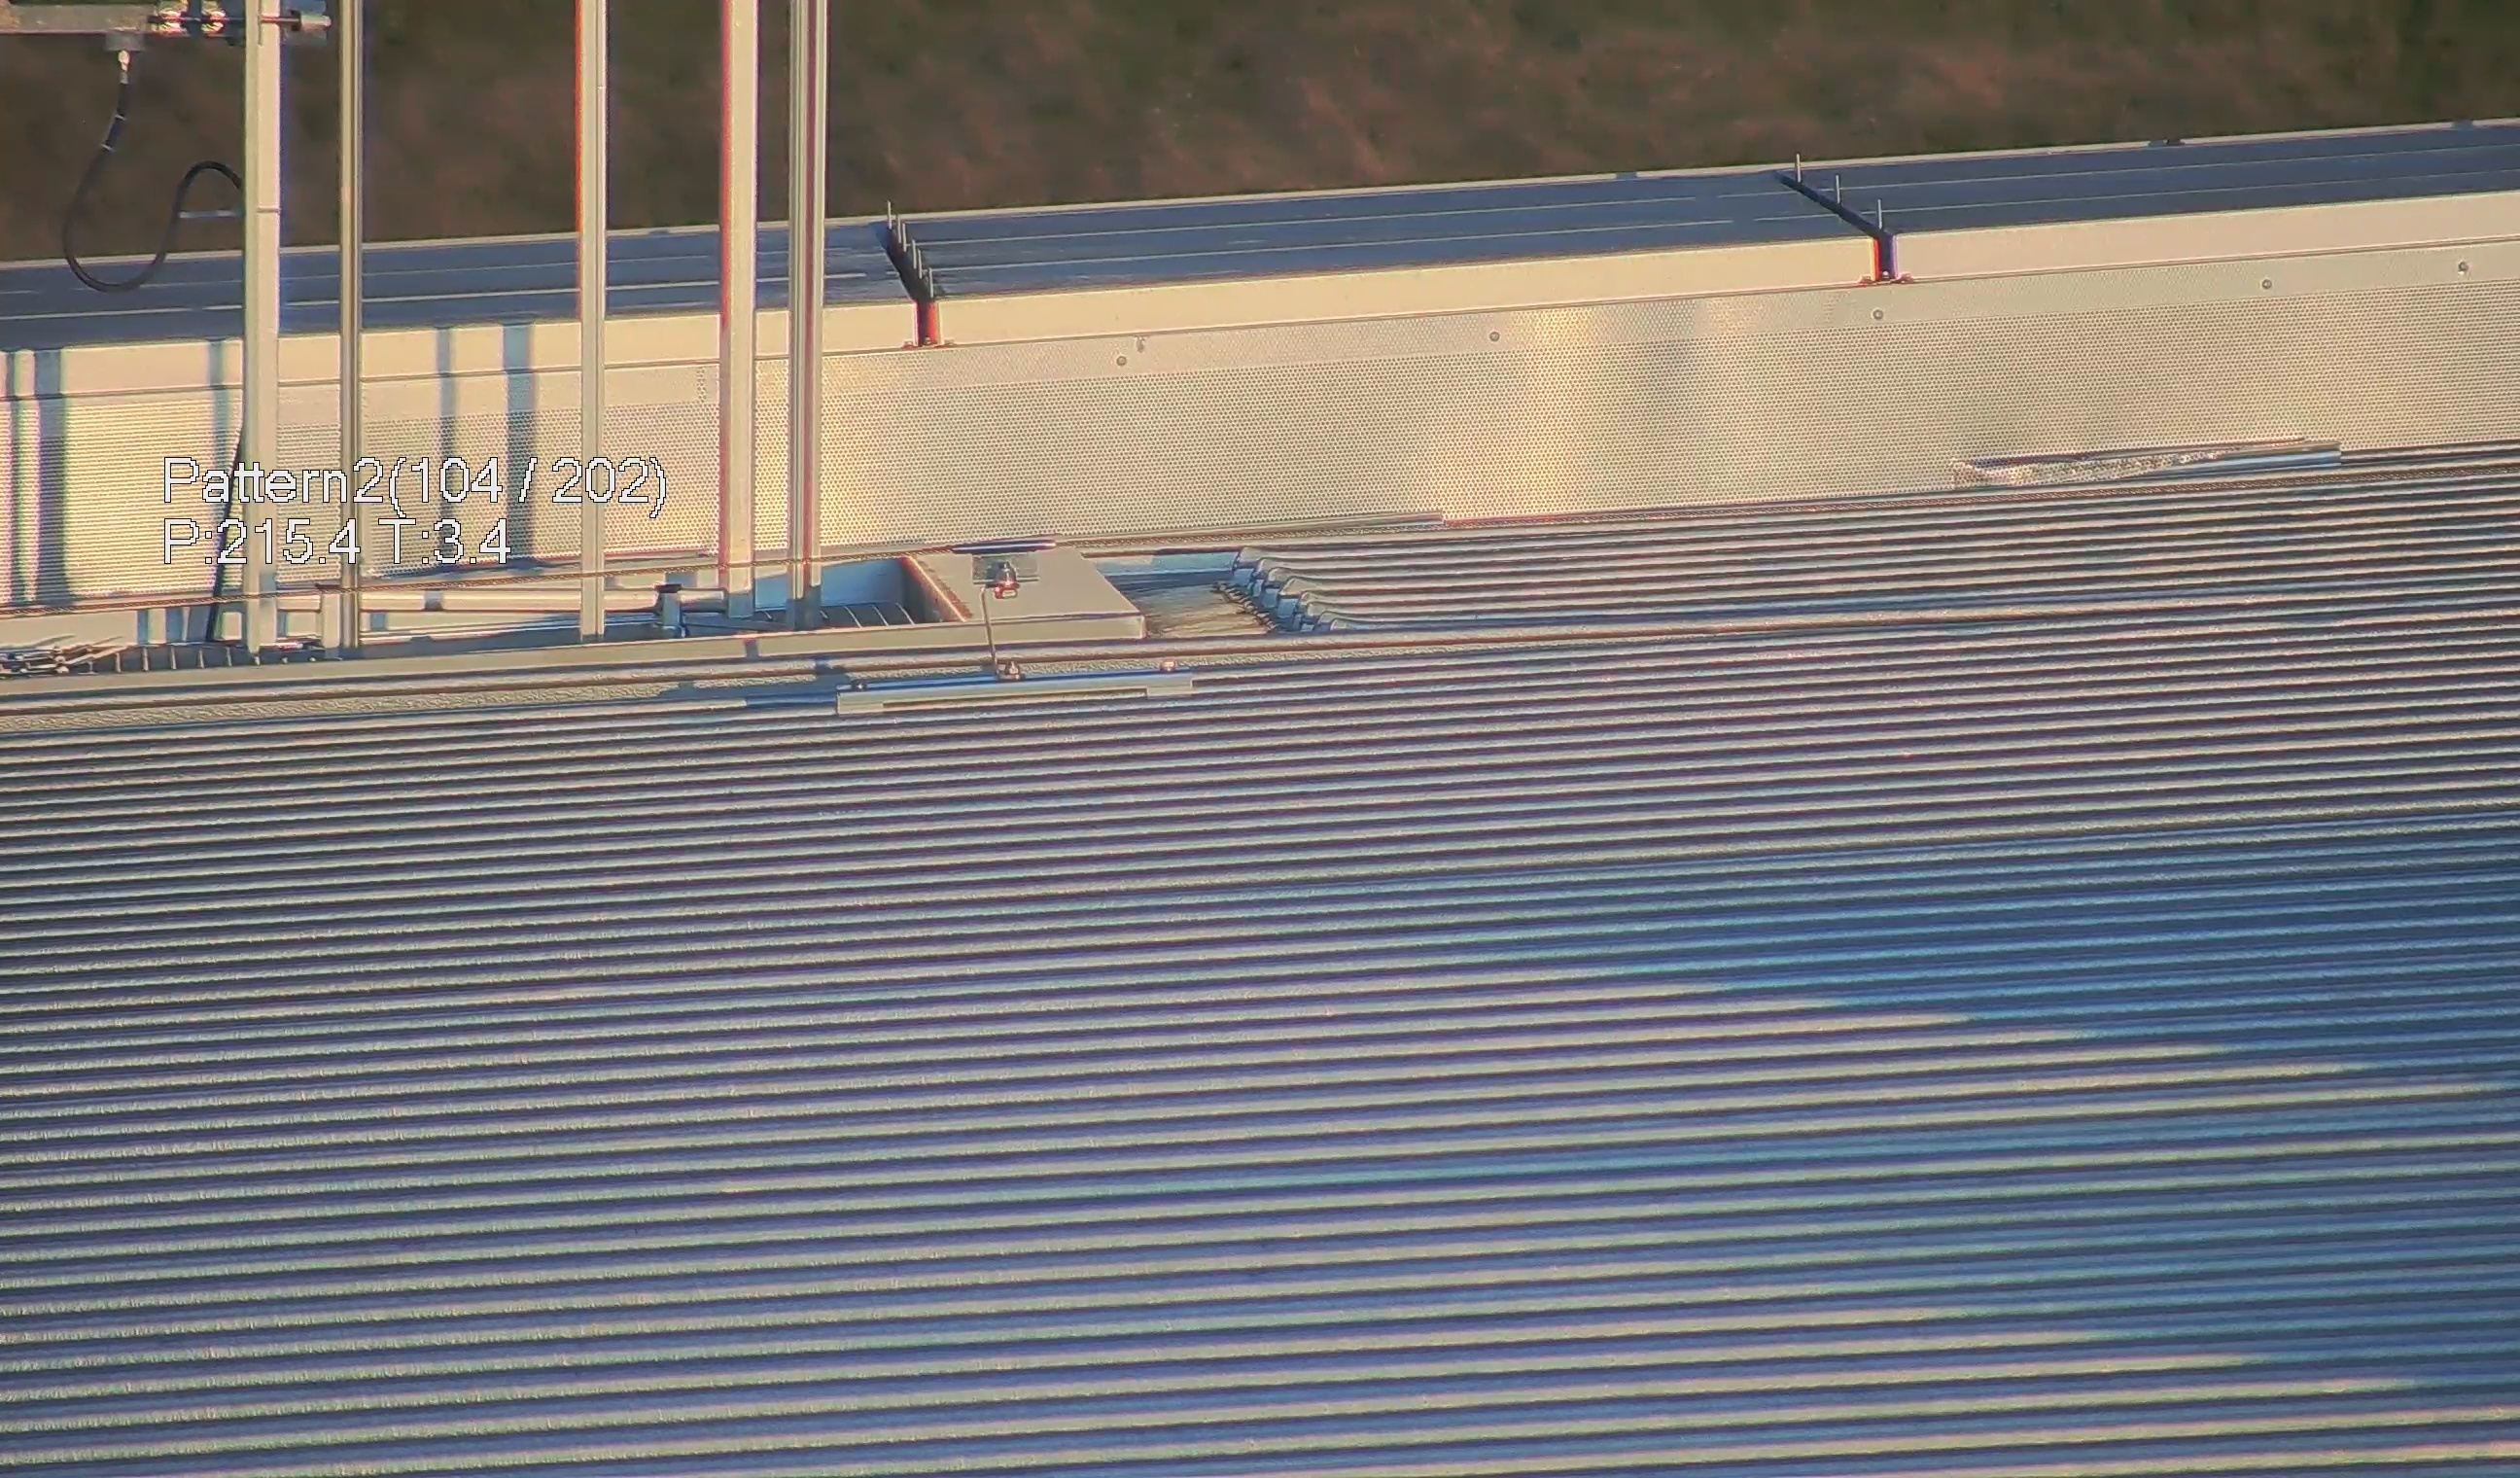Other: (867, 206, 950, 354)
